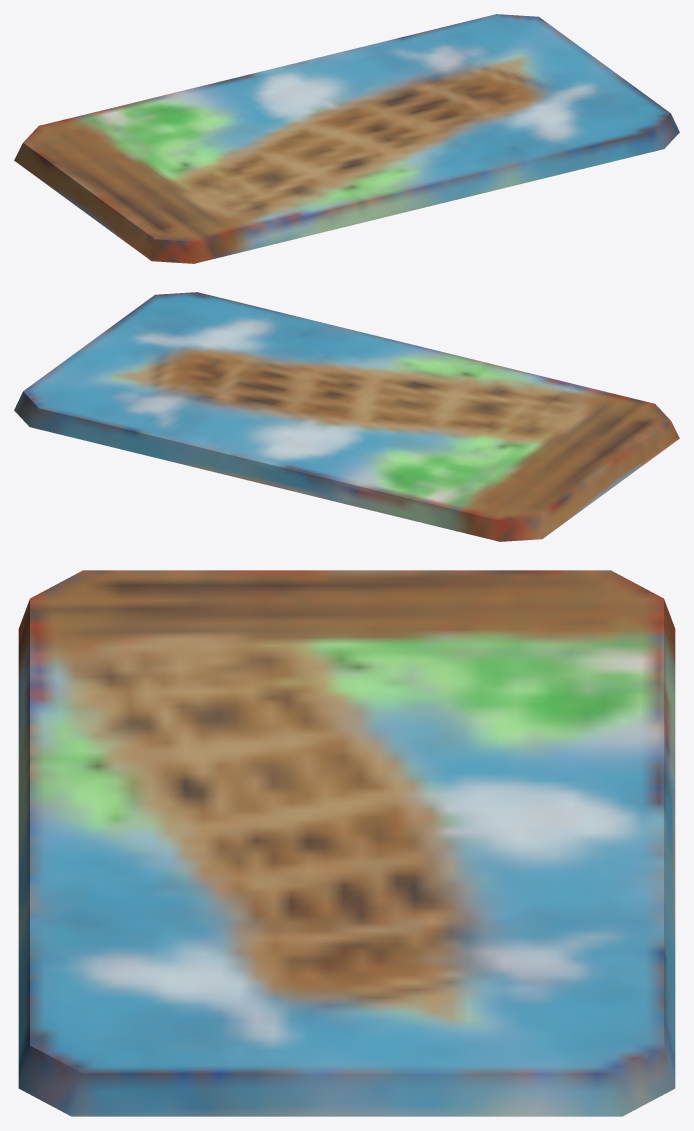
File: SM_Magnets_14.fbx
The picture shows the model from 3 angles, top to bottom: view 1: azimuth 30°, elevation 25°; view 2: azimuth 150°, elevation 25°; view 3: azimuth 270°, elevation 25°; orthographic projection. The views are drawn at different scales.
Visible parts, largest first — view 1: SM_Magnets_14_LOD0; view 2: SM_Magnets_14_LOD0; view 3: SM_Magnets_14_LOD0.
Boxes of the visible parts, bbox=[...] form: SM_Magnets_14_LOD0: bbox=[14, 14, 679, 263]; SM_Magnets_14_LOD0: bbox=[14, 292, 679, 541]; SM_Magnets_14_LOD0: bbox=[18, 570, 675, 1116].
Size of the model in its own units: 14.77 by 7.95 by 0.4929.
1 material, 1 textured.
